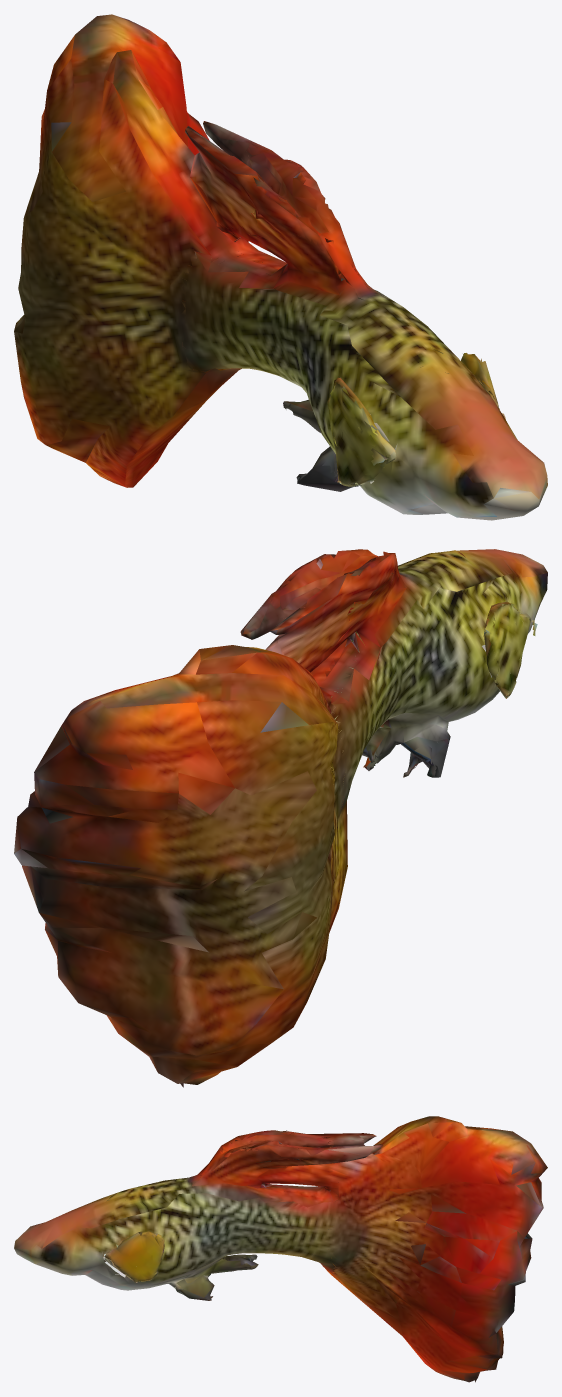
The model's file is strain-gold_red_snakeskin.lo.glb.
3 renders of one model, top to bottom at view 1: azimuth 30°, elevation 25°; view 2: azimuth 150°, elevation 25°; view 3: azimuth 270°, elevation 25°, orthographic. The views are drawn at different scales.
Parts seen in each view (by area): view 1: Mesh_0.001; view 2: Mesh_0.001; view 3: Mesh_0.001.
Boxes of the visible parts, left/top/right/bottom form: Mesh_0.001: left=14, top=14, right=547, bottom=520; Mesh_0.001: left=14, top=549, right=547, bottom=1087; Mesh_0.001: left=14, top=1116, right=547, bottom=1382.
Bounding box in the file's own units: 0.0125 × 0.0198 × 0.0367.
Materials: 2 (2 with a texture image).
